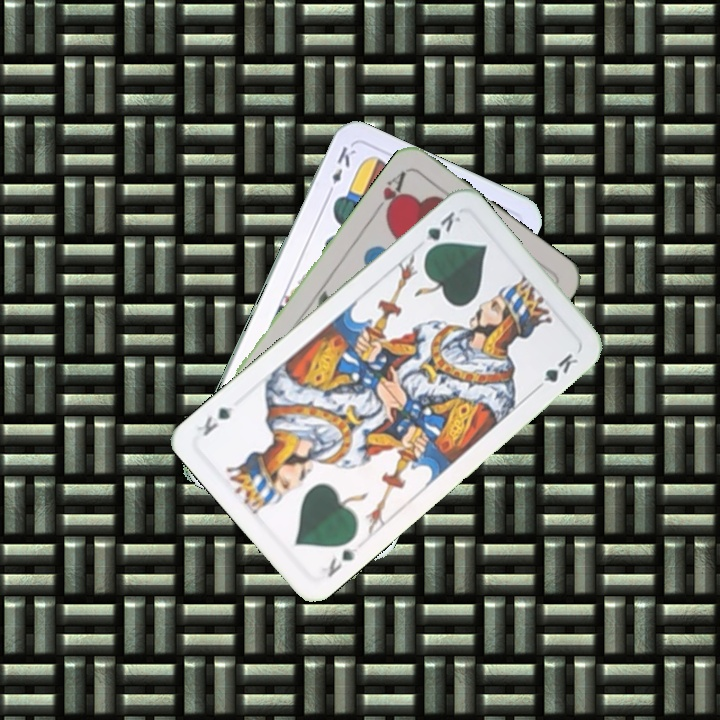EK: (322, 142, 359, 199)
GK: (420, 207, 463, 257), (323, 544, 359, 580)
HA: (369, 167, 409, 220)
